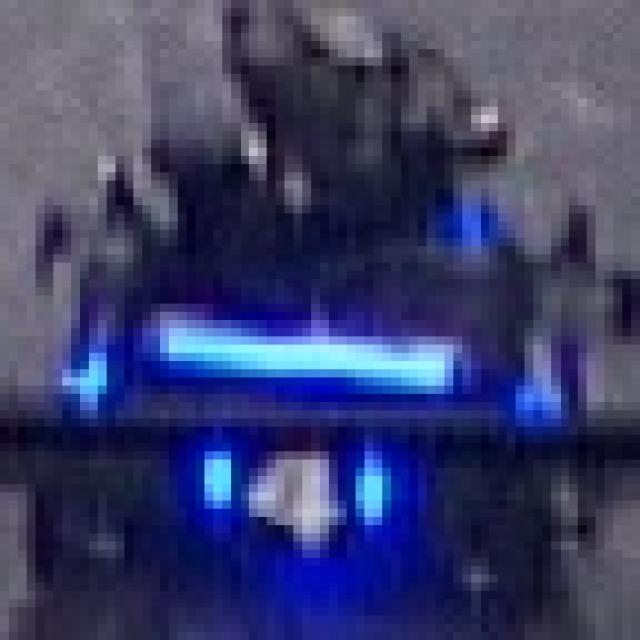B4: (182, 410, 404, 558)
